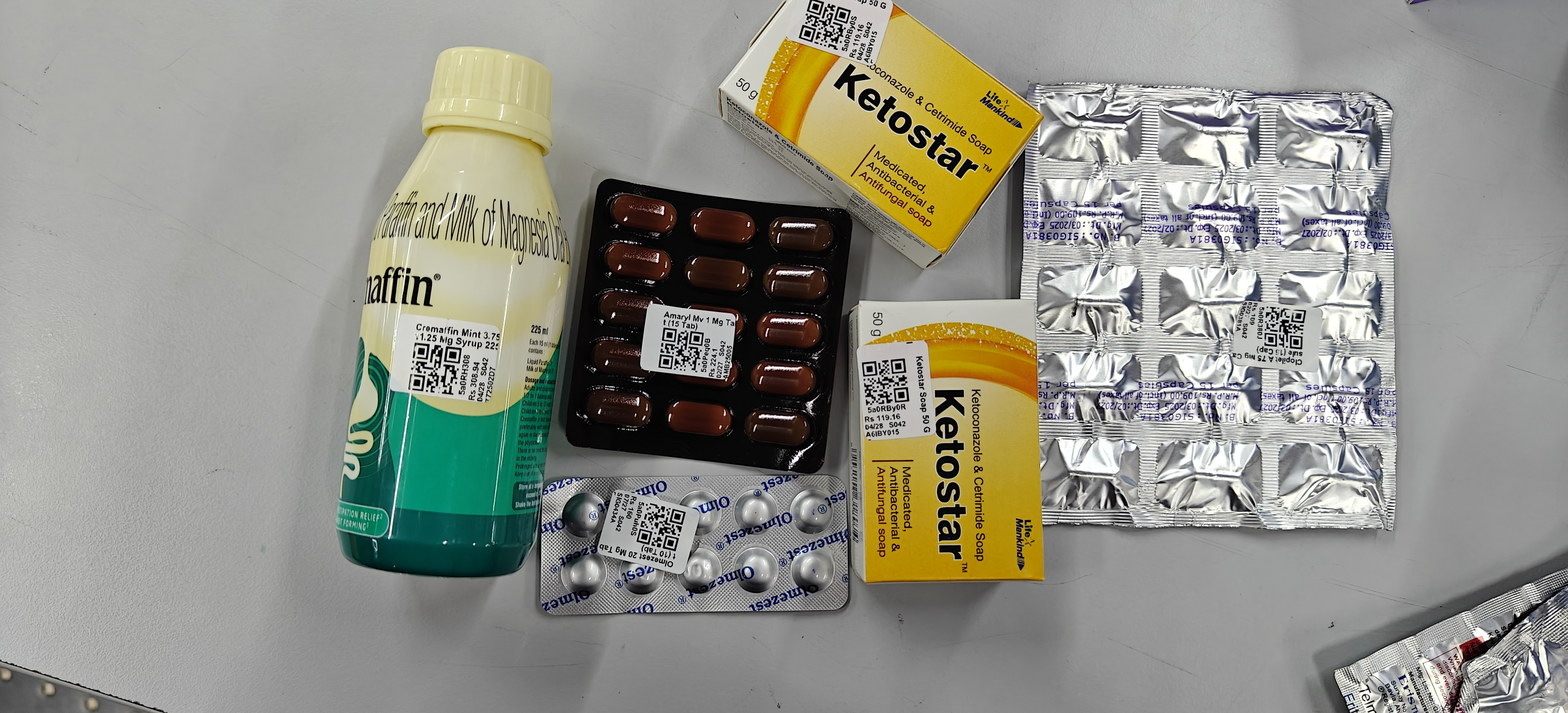qr_code: (670, 331, 968, 608), (412, 342, 462, 396), (636, 501, 686, 551), (861, 358, 909, 405), (1264, 306, 1306, 350)
